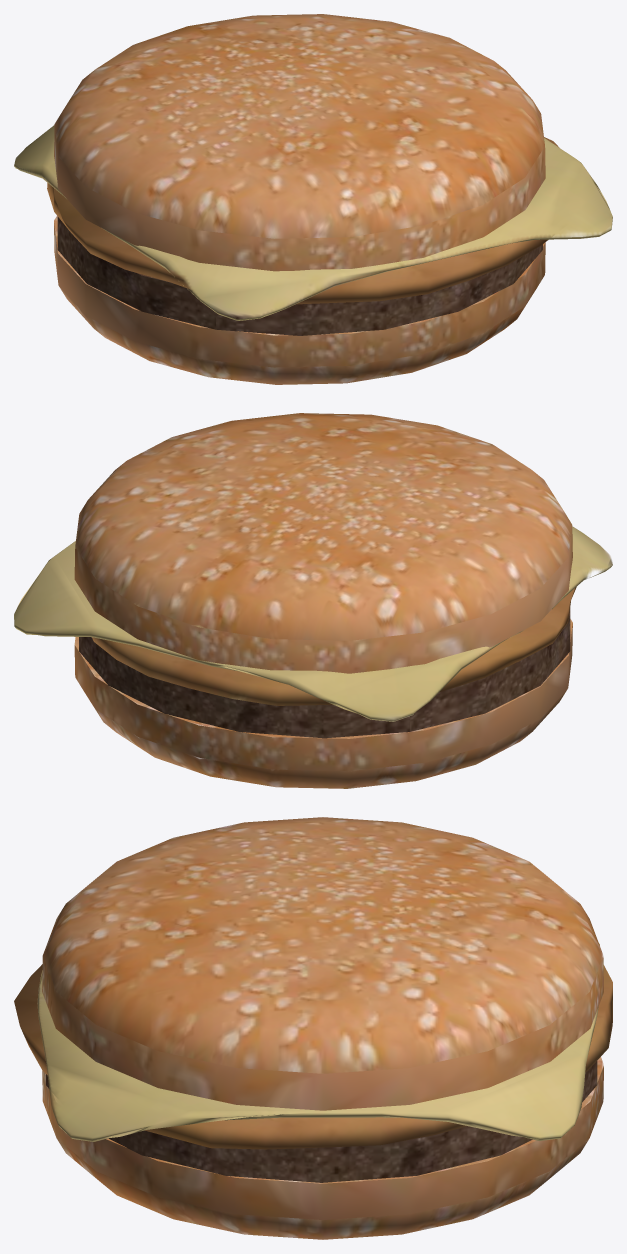
File: AHamburger.glb
The picture shows the model from 3 angles, top to bottom: view 1: azimuth 30°, elevation 25°; view 2: azimuth 150°, elevation 25°; view 3: azimuth 270°, elevation 25°; orthographic projection. The views are drawn at different scales.
Visible parts, largest first — view 1: AHamburger; view 2: AHamburger; view 3: AHamburger.
Part boxes in pixels (x1=…): AHamburger: x1=14, y1=14, x2=612, y2=384; AHamburger: x1=14, y1=413, x2=612, y2=788; AHamburger: x1=14, y1=817, x2=612, y2=1239.
Bounding box in the file's own units: 0.00962 × 0.00481 × 0.00971.
1 material, 1 textured.
